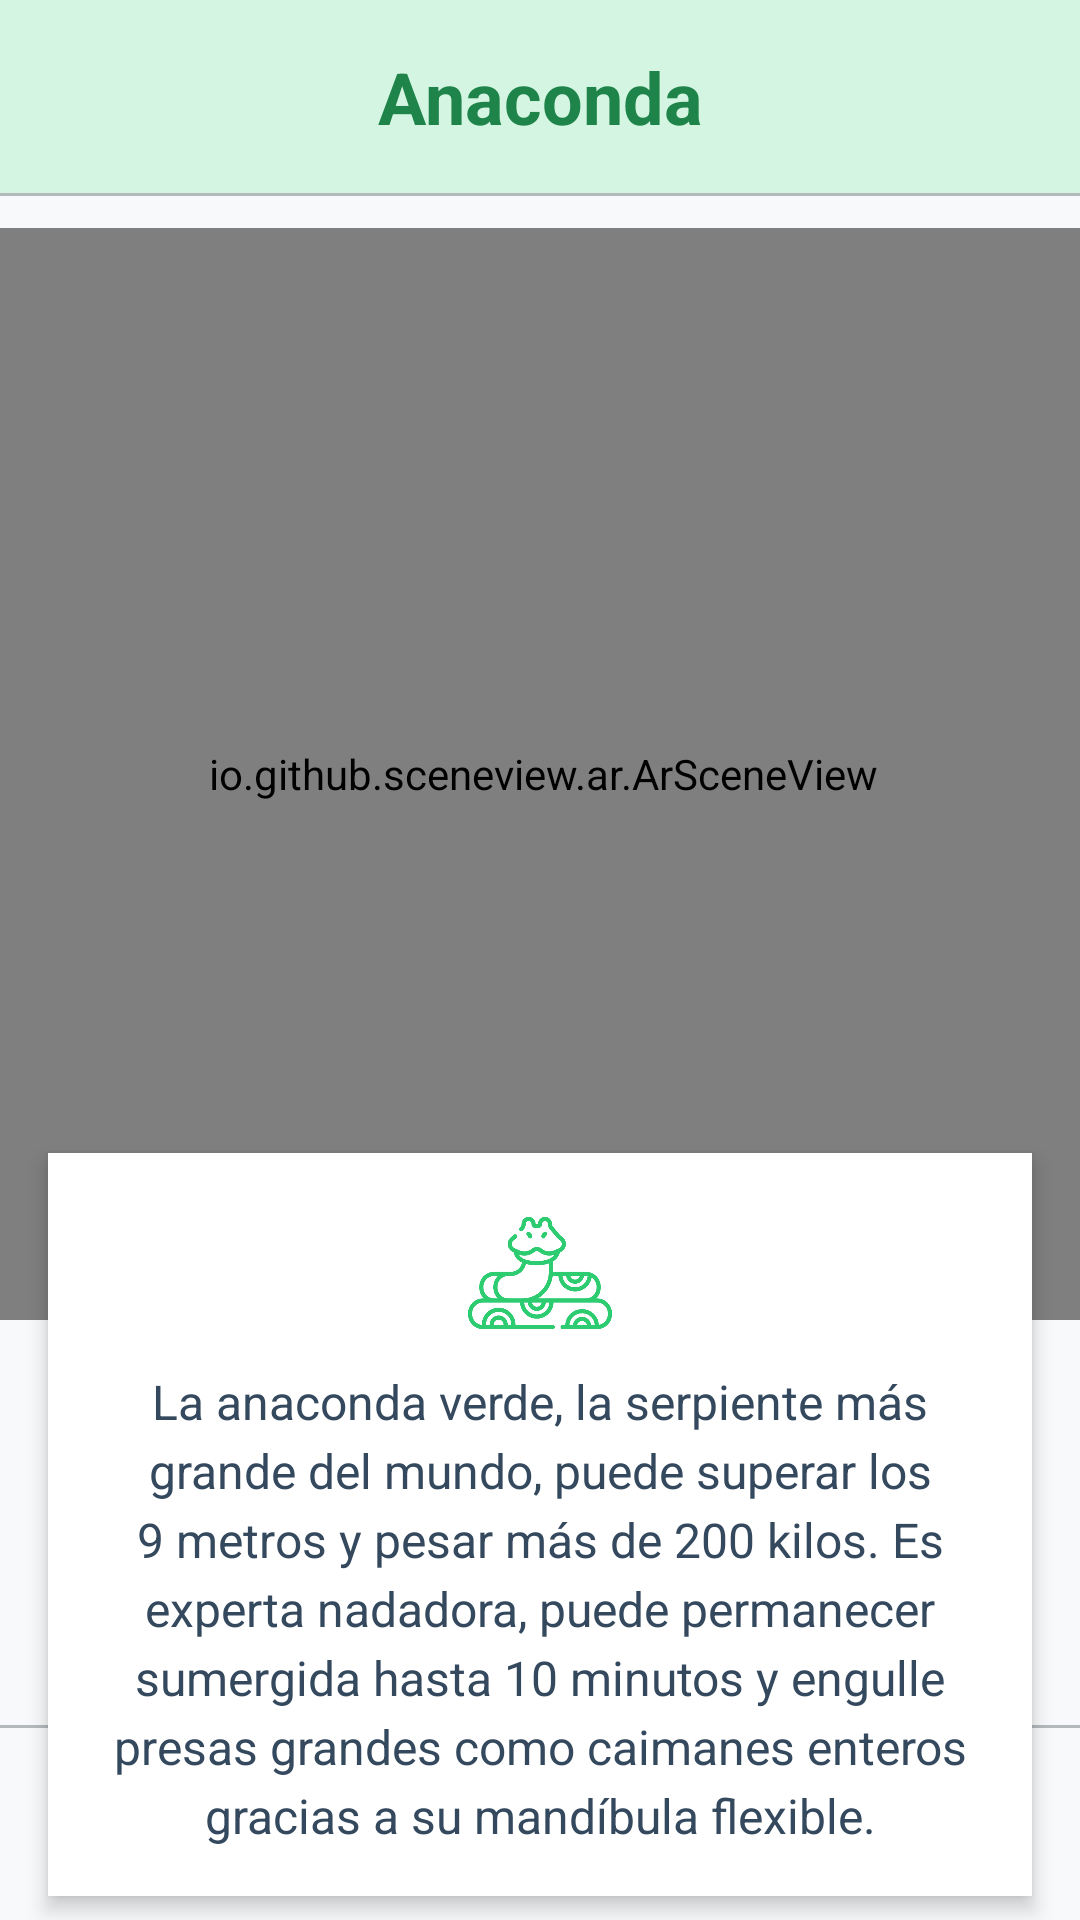

Screen size 1080x1920. Icon name, then its center in pixels as (x,y):
Icono de amazonas: (540,1273)
